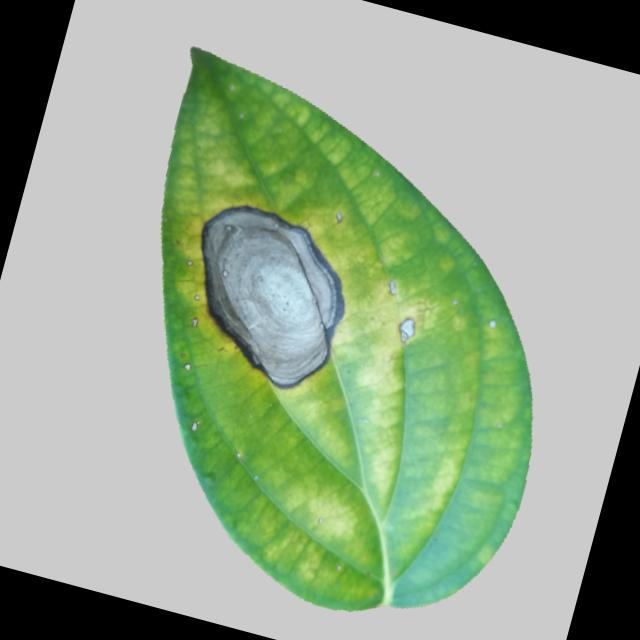leaf-blight: (53, 35, 633, 640)
